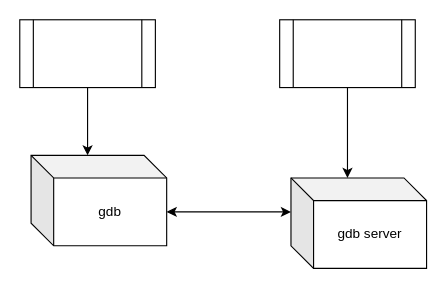
Some shapes in this 446 by 288 pixel diagram are drawn without their labels. The box of each missing label's shape, as (x1, y1, x2, y2) in pixels:
IDE of choice: (19, 19, 155, 88)
Program under debug: (279, 19, 415, 88)
